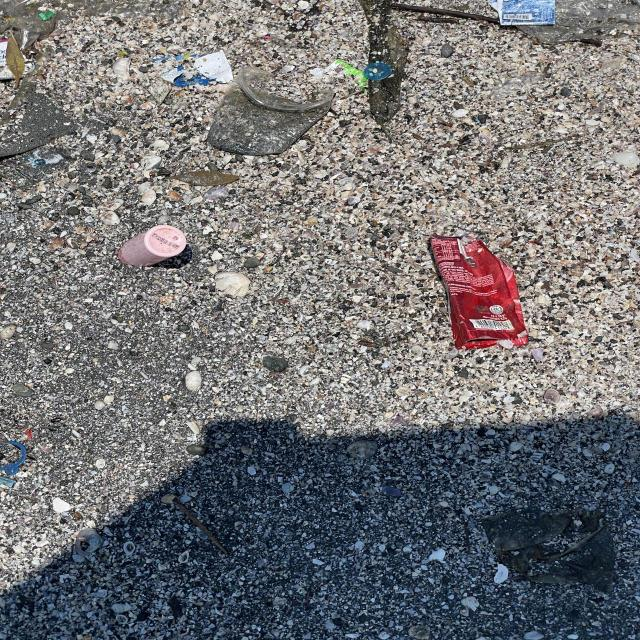litter: (426, 237, 526, 355), (208, 66, 338, 154), (155, 54, 227, 88), (484, 0, 561, 25), (0, 435, 30, 489), (0, 33, 18, 83)
